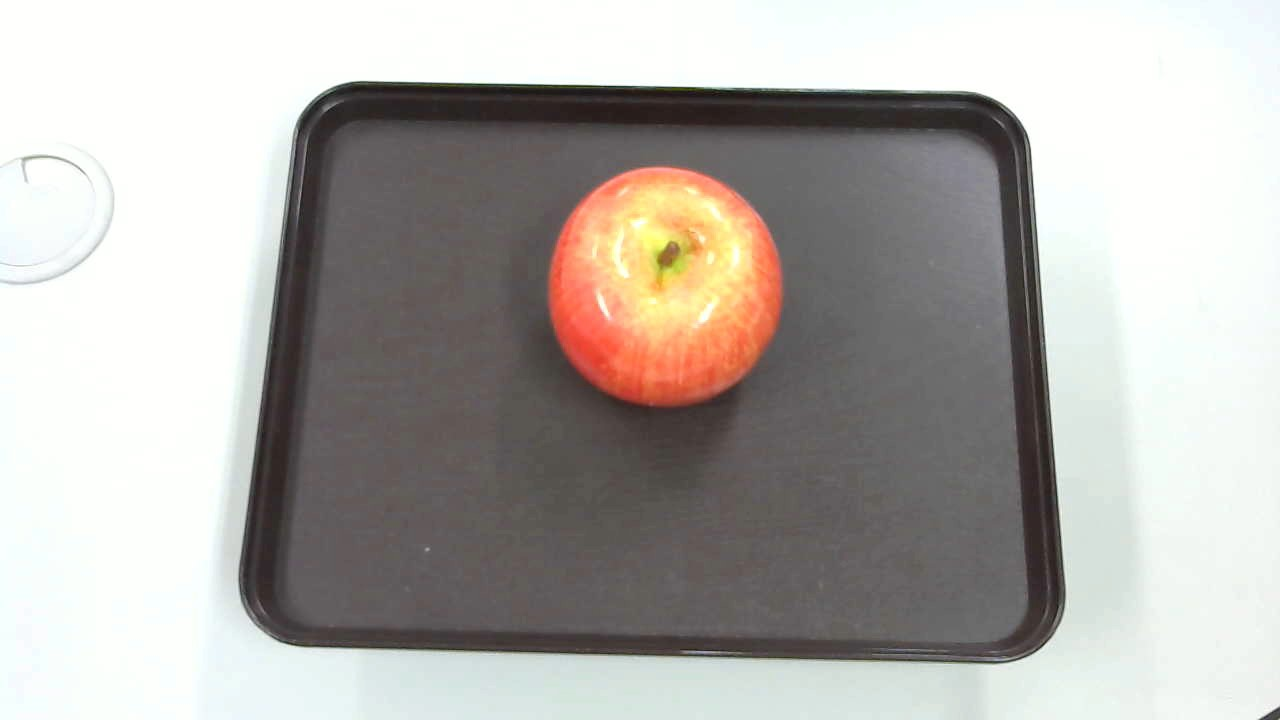red apple: (539, 166, 793, 422)
